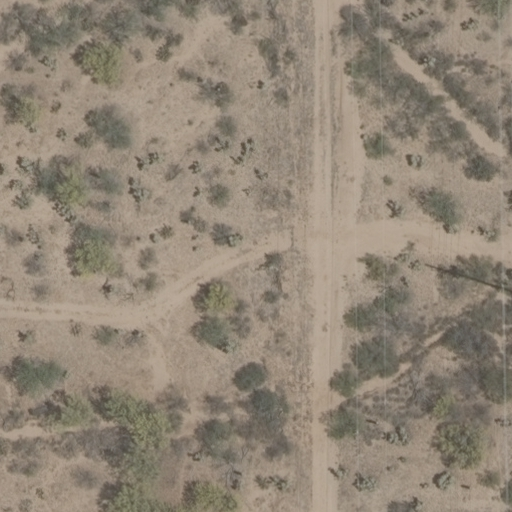DT: (487, 271, 512, 299)
